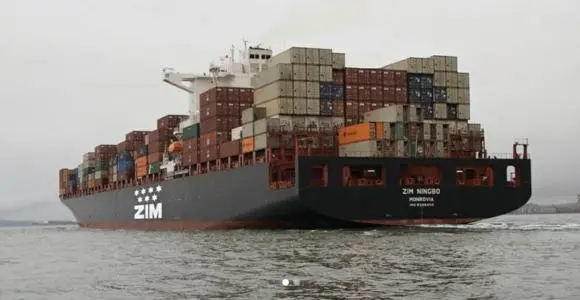Cargoship: (54, 33, 535, 230)
